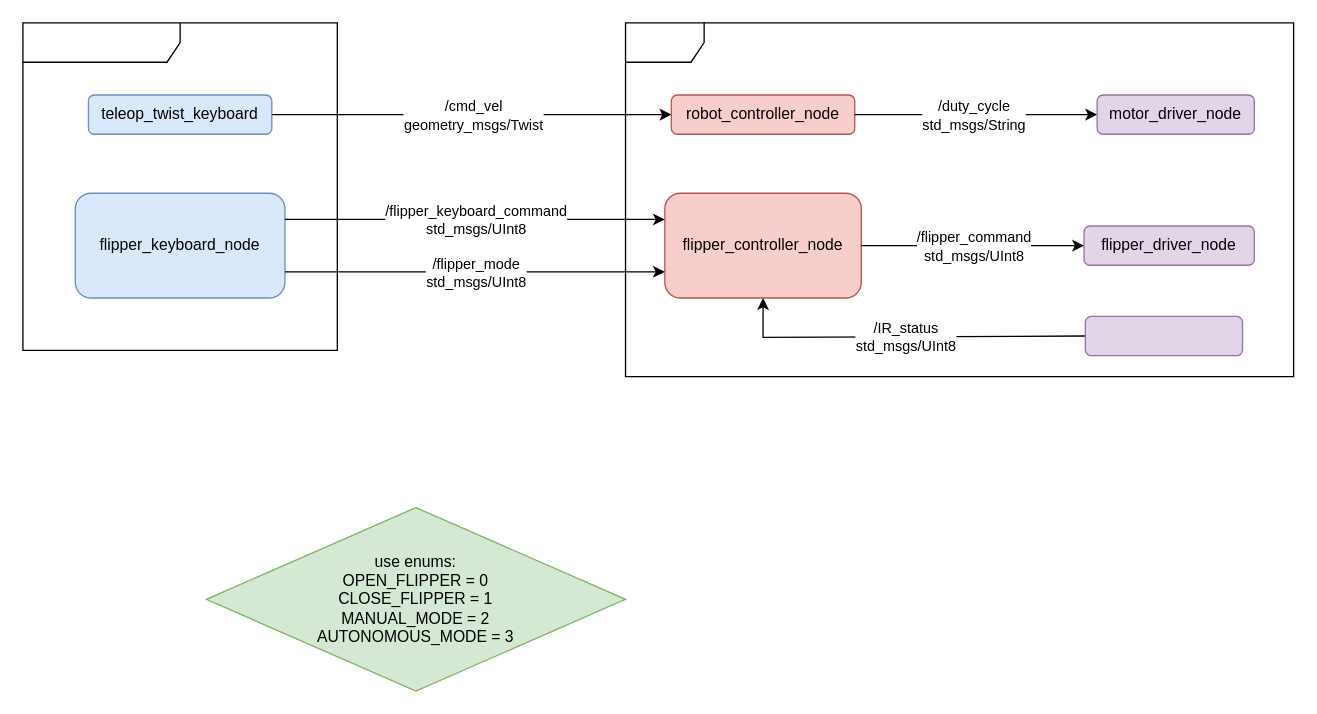
The diagram is 1317 pixels wide and 714 high, and some of its shapes have lost their labels. Here are the shapes that lost their labels. From the top down, the box of each, then its label:
(22, 22, 337, 350): command laptop
(624, 22, 1294, 377): RPi
(1084, 315, 1243, 356): IR_receiver_node
